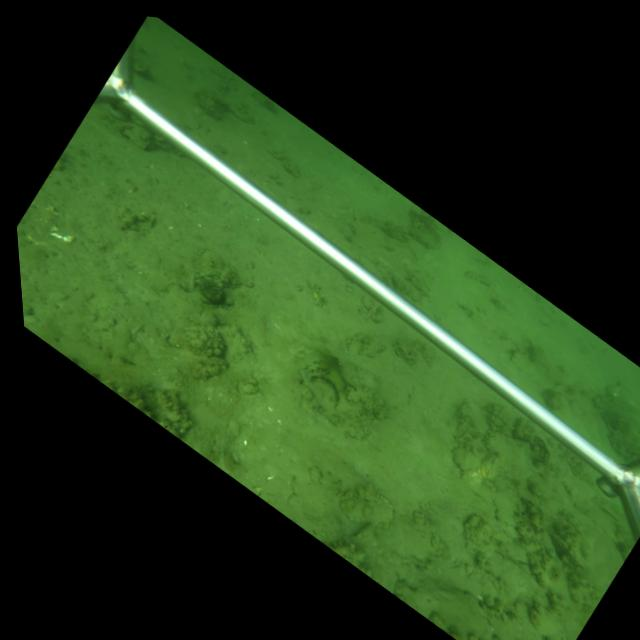Oyster-Closed: (302, 371, 342, 417), (197, 301, 239, 316)
Oyster-Indeterminate: (482, 427, 541, 483), (449, 443, 482, 472)
